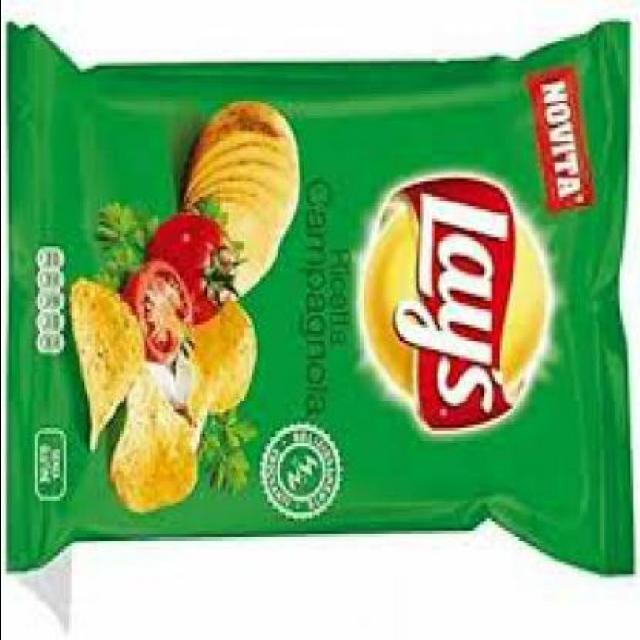Chips: (10, 25, 630, 581)
